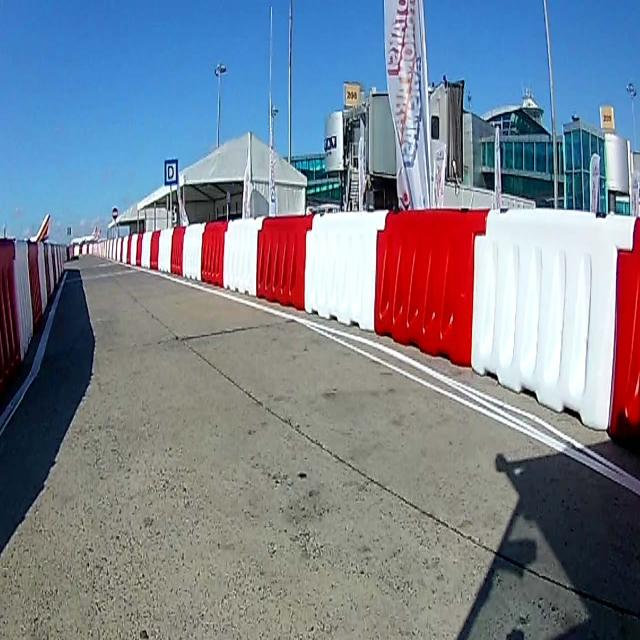durak: (165, 160, 178, 187)
girisyok: (112, 207, 118, 220)
